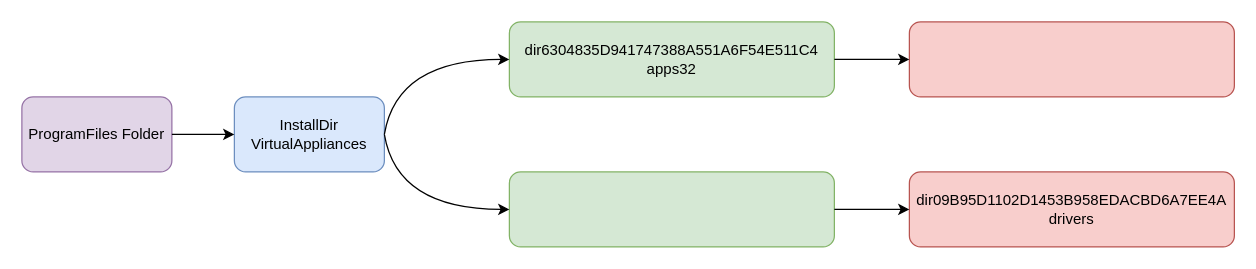
Some shapes in this 1256 by 269 pixel diagram are drawn without their labels. The centre of each missing label's shape, as x and y in pixels:
"dir172EBD0F6E7B4C888DEFC0963F1CEDE3 drivers" goes at (x=1071, y=59).
"dir364447B027AD3498AA1F00D83B0144850 apps64" goes at (x=671, y=209).
